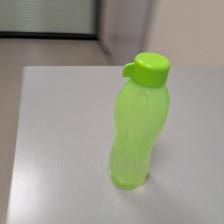bottle: (104, 48, 174, 190)
